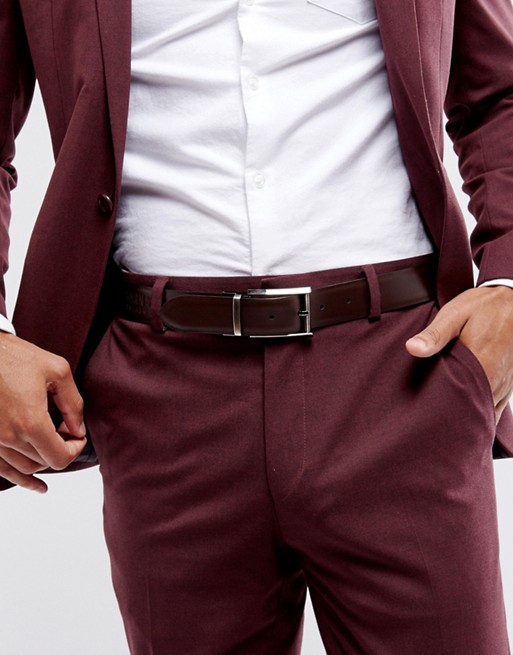F_belt: (101, 273, 449, 335)
F_dress pants: (80, 260, 513, 647)
